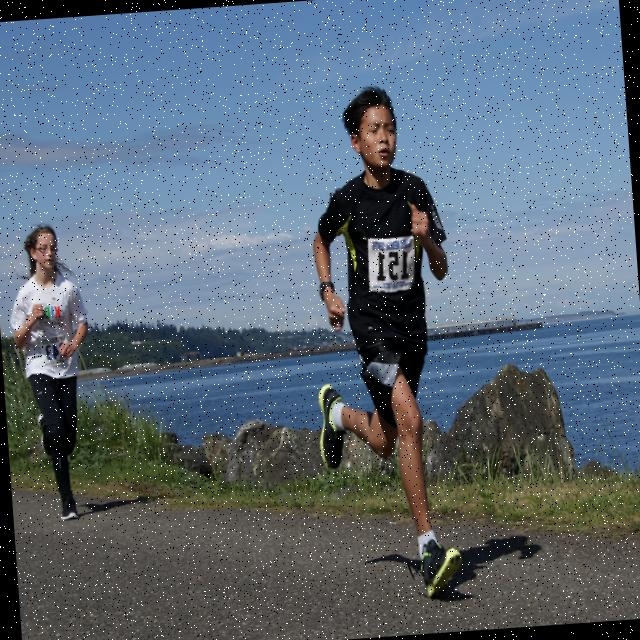Person: (294, 80, 472, 606), (2, 221, 100, 522)
